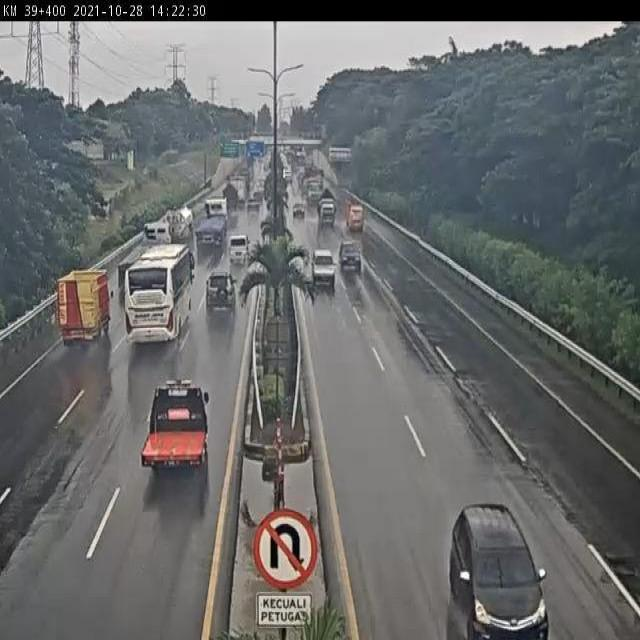big bus: (123, 243, 195, 344)
big truck: (133, 215, 172, 272), (197, 192, 230, 251)
car: (446, 505, 544, 640), (143, 382, 208, 478), (205, 270, 236, 314), (309, 247, 333, 284), (339, 240, 364, 268), (228, 235, 250, 264), (248, 192, 263, 213), (251, 186, 264, 206)
small truck: (51, 265, 114, 347), (166, 203, 196, 237), (317, 188, 338, 232), (217, 183, 238, 216), (347, 207, 365, 233)
